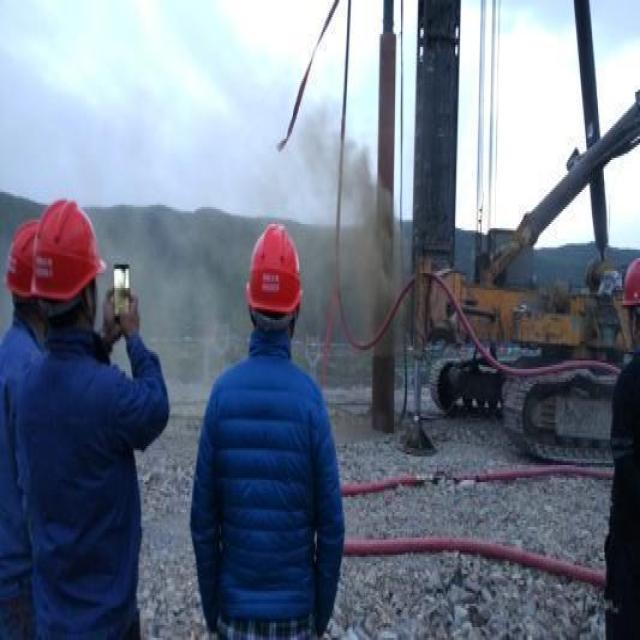helmet: (24, 184, 108, 314), (239, 211, 313, 333)
